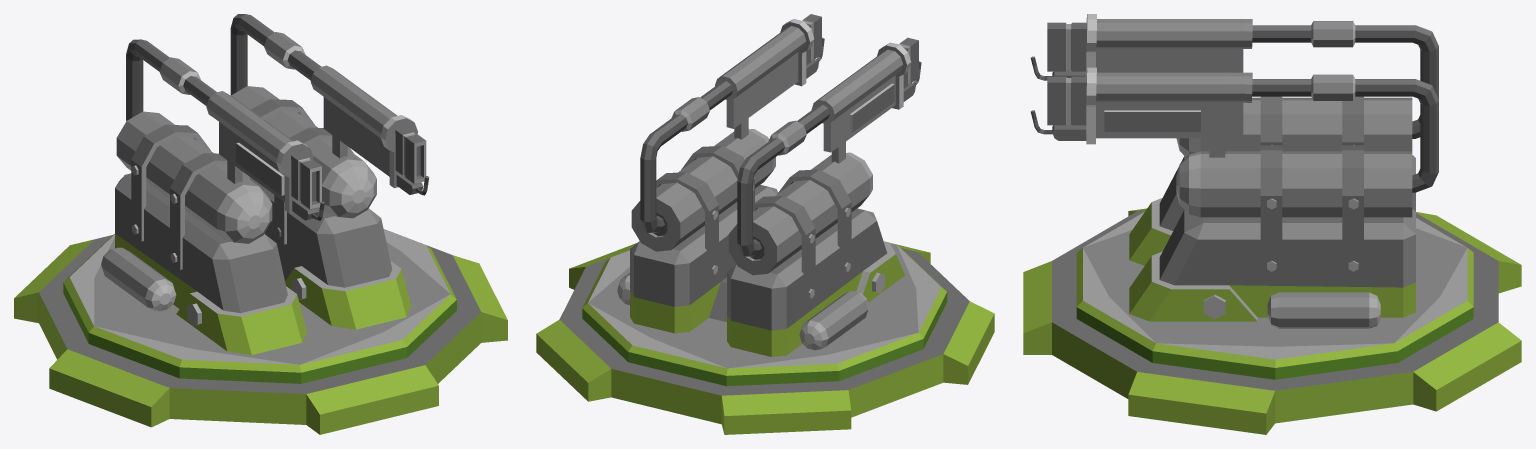
File: tower_napalm_green_2.fbx
3 views of the same model, side by side, from view 1: azimuth 30°, elevation 25°; view 2: azimuth 150°, elevation 25°; view 3: azimuth 270°, elevation 25° (orthographic). The views are drawn at different scales.
Visible parts, largest first — view 1: top_napalm_green_2, tower_napalm_green_2; view 2: top_napalm_green_2, tower_napalm_green_2; view 3: top_napalm_green_2, tower_napalm_green_2.
Part boxes in pixels (box(x1,y1,x2,y2)): top_napalm_green_2: box(101, 14, 429, 354); tower_napalm_green_2: box(14, 229, 507, 434); top_napalm_green_2: box(617, 14, 921, 356); tower_napalm_green_2: box(536, 241, 994, 434); top_napalm_green_2: box(1030, 14, 1438, 328); tower_napalm_green_2: box(1023, 208, 1521, 434).
Size of the model in its own units: 190 by 112 by 181.
